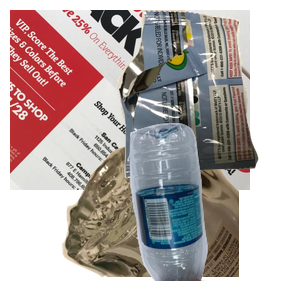glass: (60, 120, 300, 300)
paper: (10, 10, 250, 190)
plastic: (127, 120, 300, 300)
trash: (114, 10, 300, 180)
